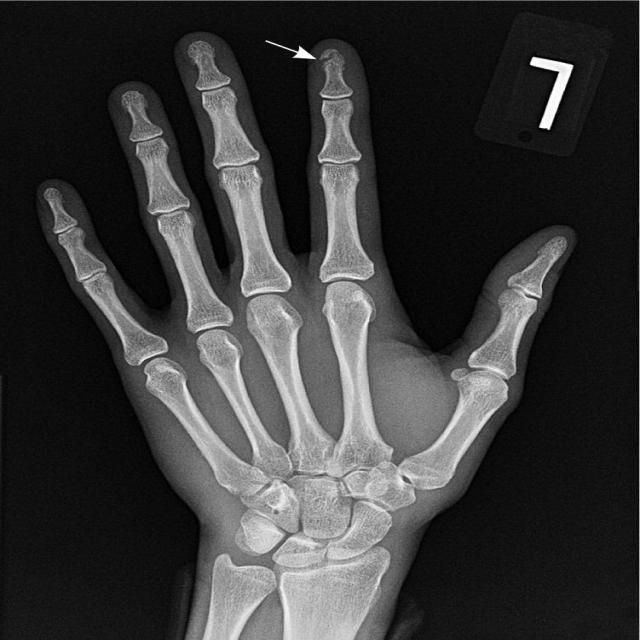fracture: (320, 48, 344, 70)
